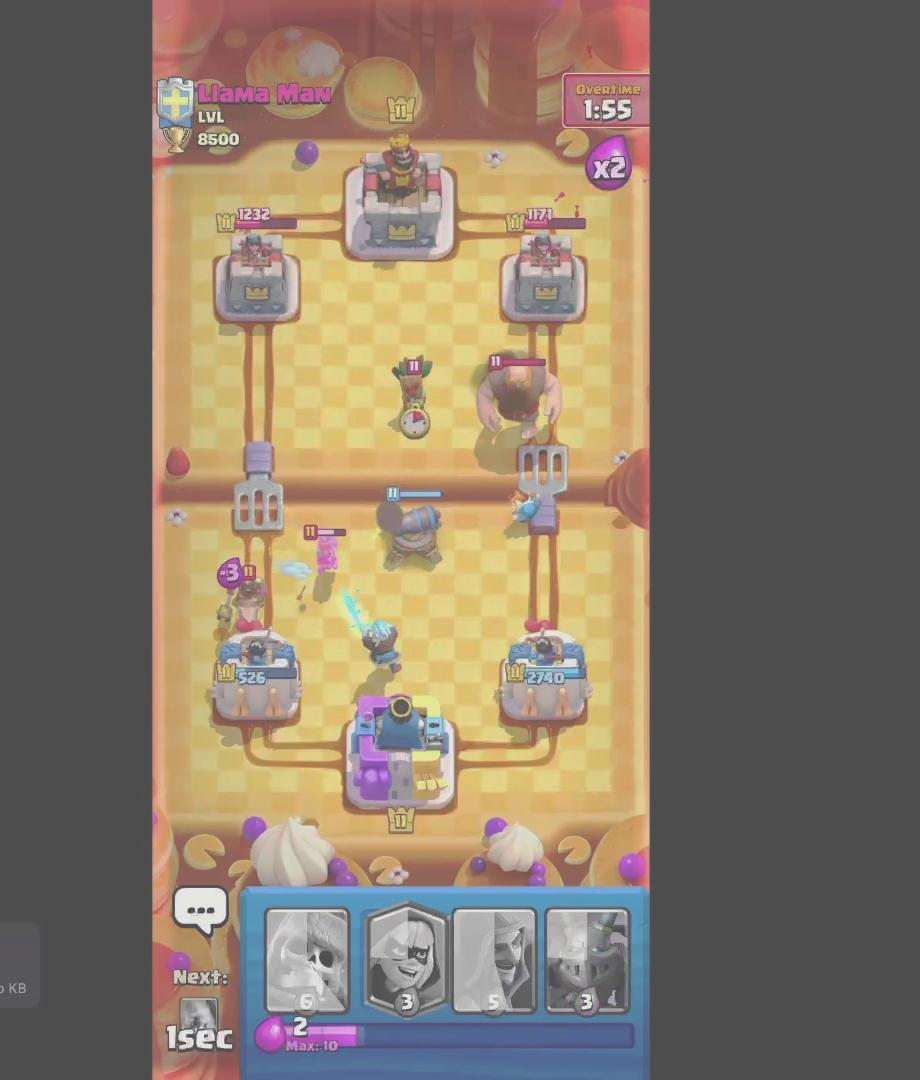Dart Goblin: (390, 354, 436, 435)
Giant: (472, 354, 566, 451)
Hog Rider: (210, 564, 276, 638)
Valkyrie: (297, 517, 350, 582)
